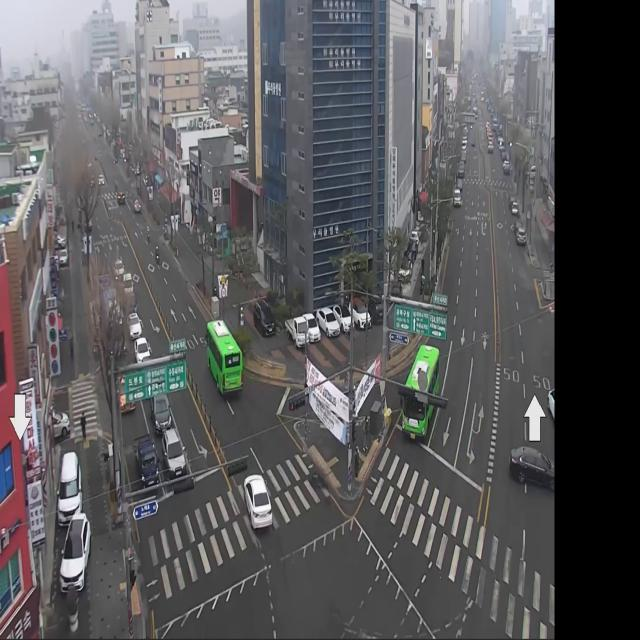bus: (154, 242, 161, 266)
car: (393, 329, 448, 460), (200, 306, 250, 410)
motorcycle: (506, 432, 554, 506), (241, 469, 275, 536), (158, 425, 187, 482)
truck: (129, 430, 160, 493)
